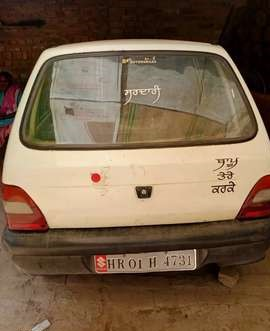HR01H4731: (95, 250, 196, 273)
